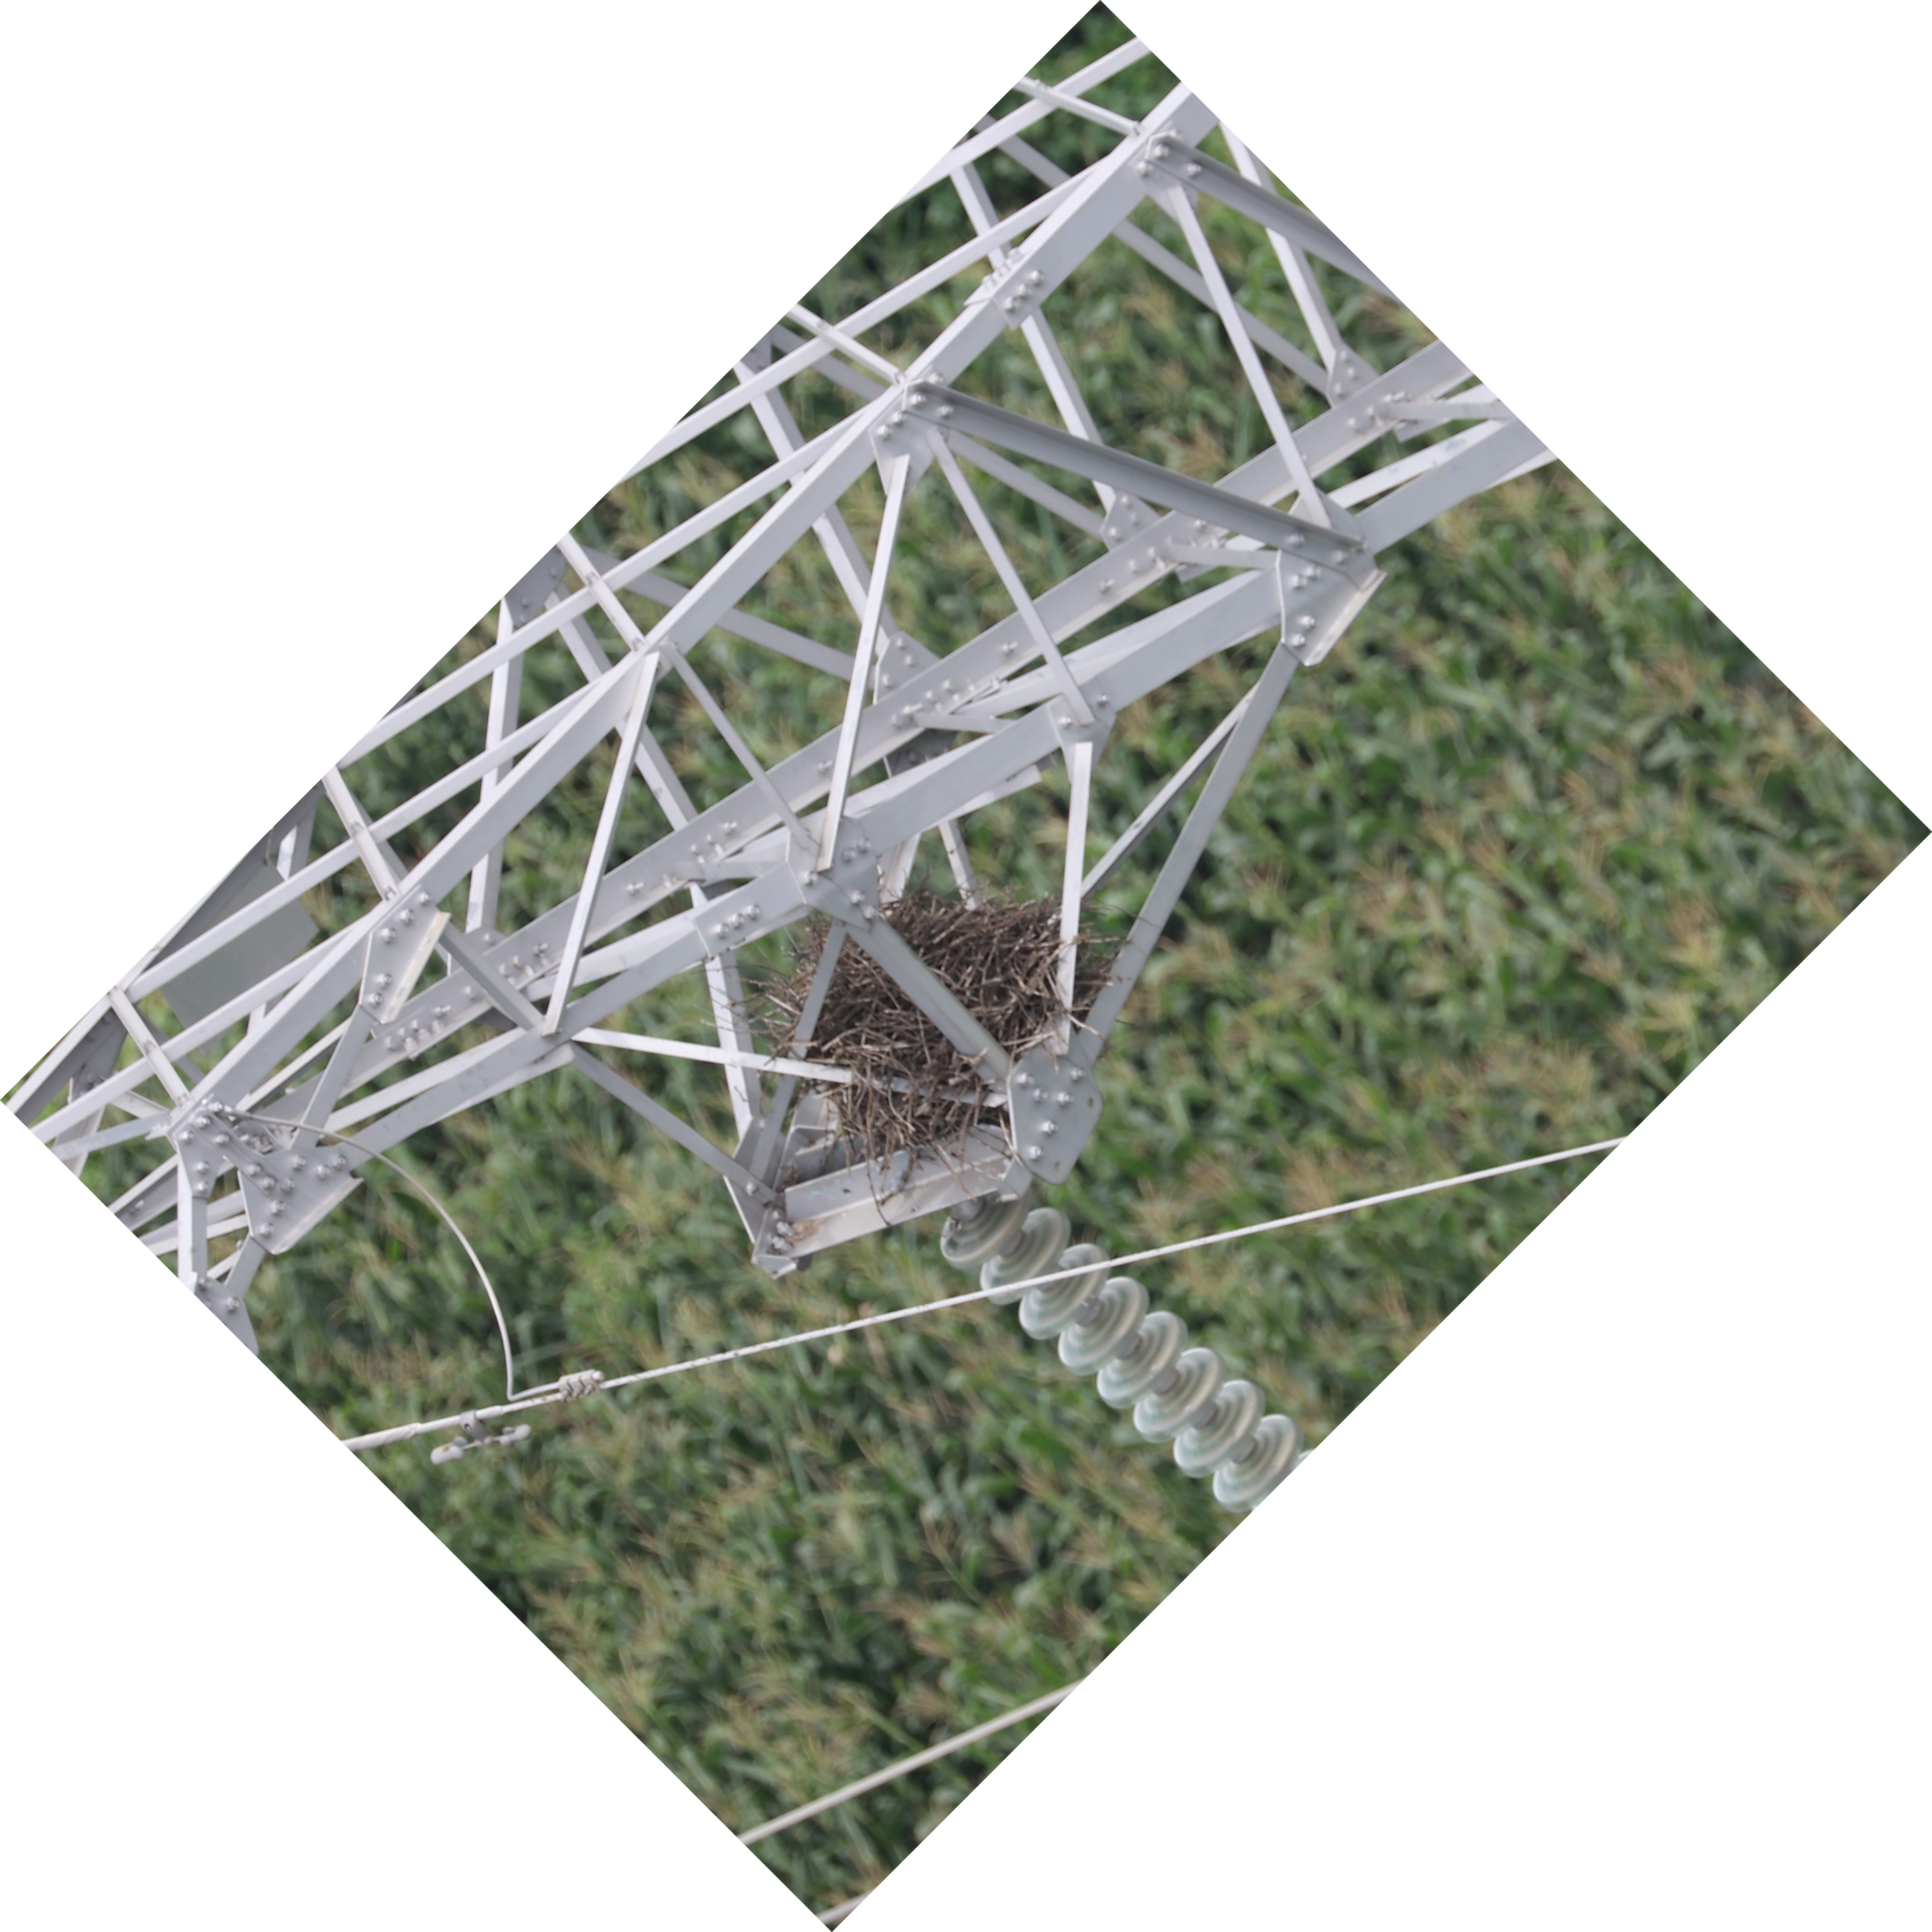niaowo: (748, 862, 1118, 1175)
